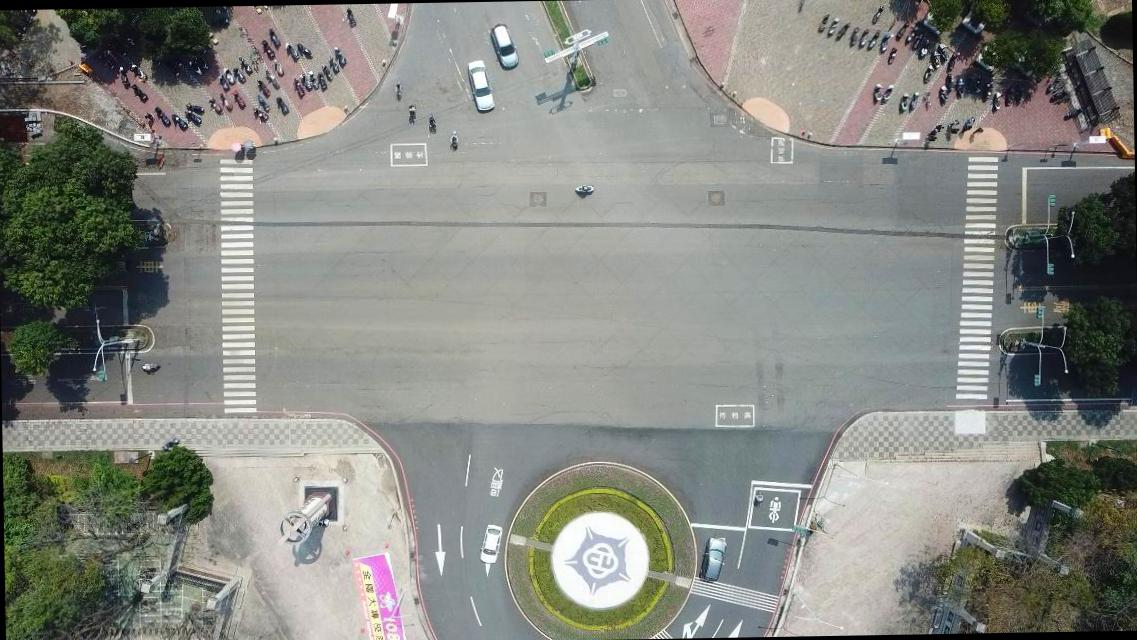vehicle: (466, 58, 496, 112), (489, 20, 520, 68), (699, 536, 728, 582), (478, 522, 504, 564)
